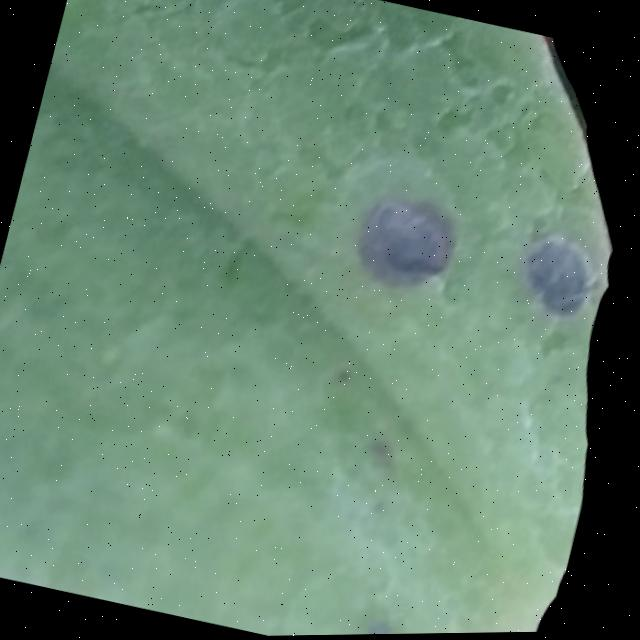mite: (346, 186, 612, 336), (432, 104, 477, 143), (360, 610, 410, 636), (368, 620, 400, 636)
sunburn: (346, 186, 469, 304)
